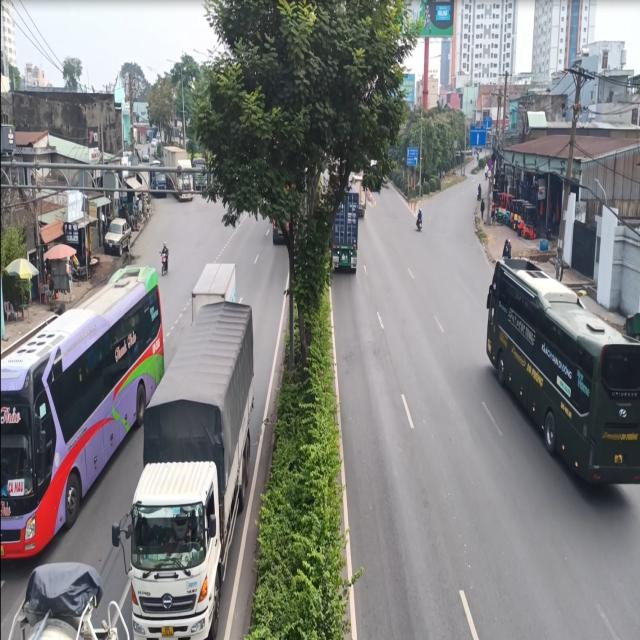bus: (1, 260, 162, 573), (481, 242, 640, 512)
truck: (127, 289, 266, 640)
